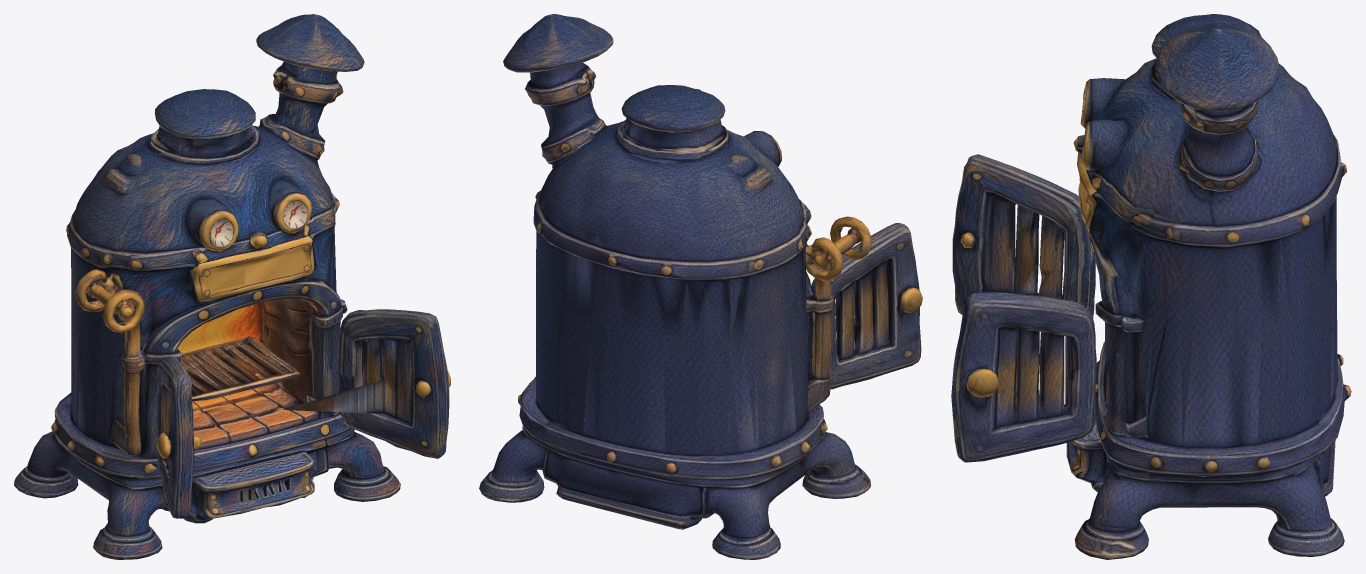
File: oven3d.glb
The picture shows the model from 3 angles, left to right: view 1: azimuth 30°, elevation 25°; view 2: azimuth 150°, elevation 25°; view 3: azimuth 270°, elevation 25°; orthographic projection. The views are drawn at different scales.
Parts seen in each view (by area): view 1: mesh_node; view 2: mesh_node; view 3: mesh_node.
Boxes of the visible parts, x1,y1,x2,y2 form: mesh_node: (14,14,450,559); mesh_node: (479,14,922,559); mesh_node: (951,14,1351,559).
Bounding box in the file's own units: 1.45 × 2 × 1.42.
1 material, 1 textured.
